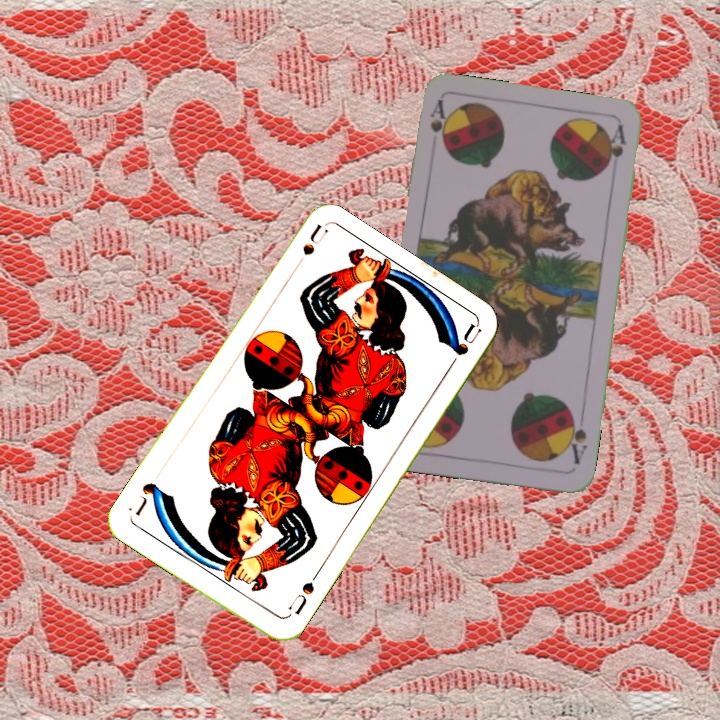SA: (562, 409, 590, 467), (426, 96, 452, 151)
SU: (288, 222, 330, 276), (282, 568, 322, 620)
